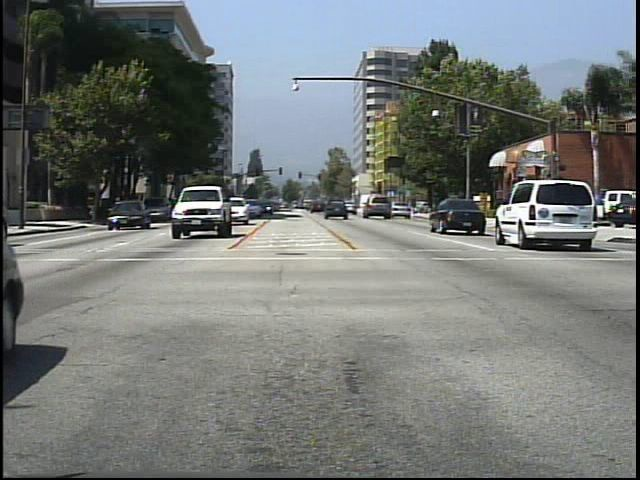person: (506, 192, 525, 230), (461, 191, 479, 226)
